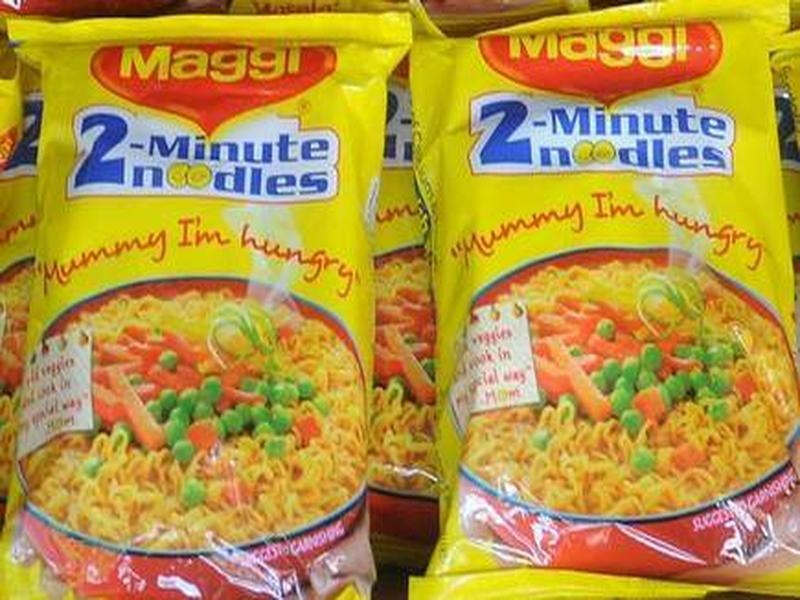maggi-small: (402, 8, 798, 596), (7, 16, 398, 600)
